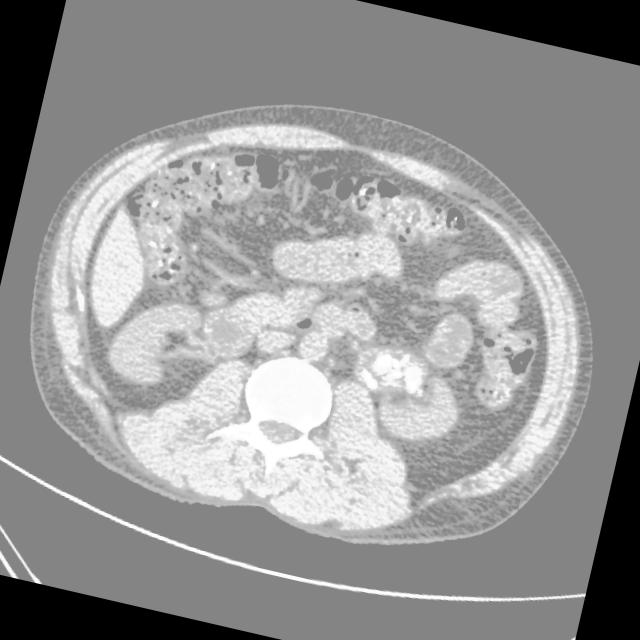STONE: (215, 126, 596, 434)
